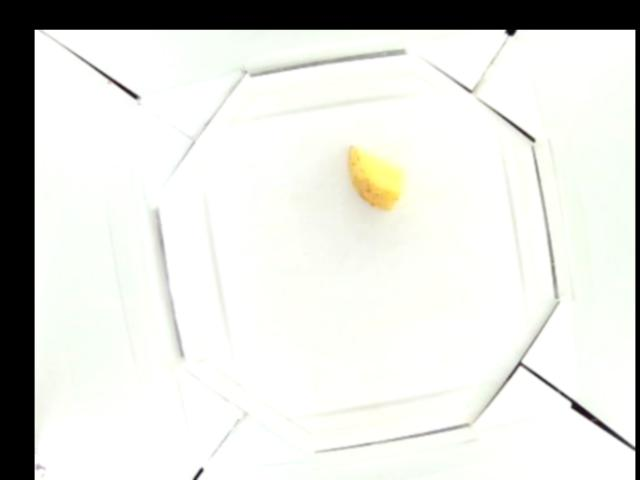Potato: (347, 143, 409, 211)
